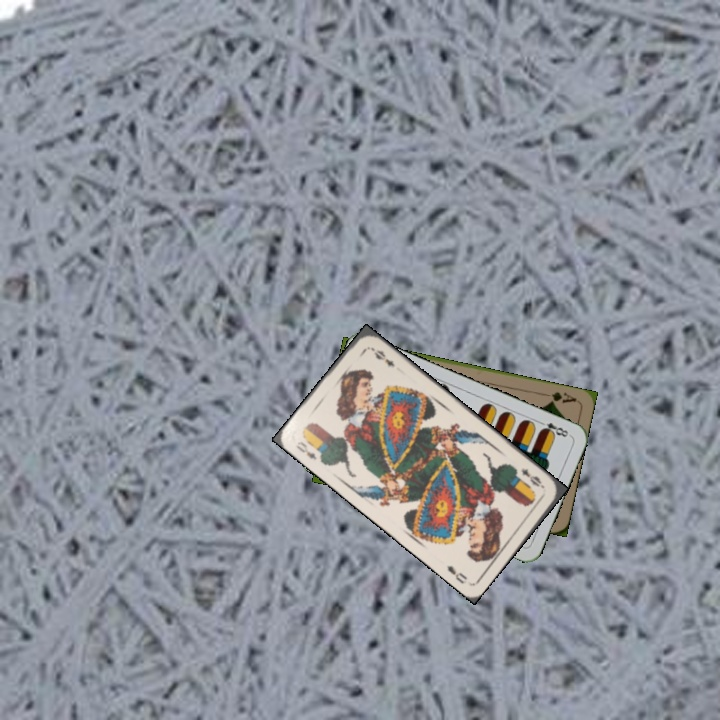E8: (534, 417, 573, 440)
EO: (517, 464, 548, 491), (292, 437, 320, 462)
GA: (539, 388, 579, 406)
